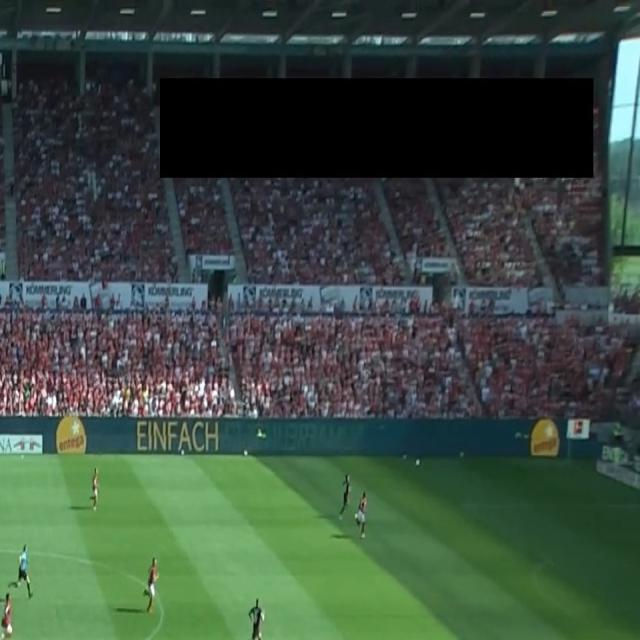ball: (416, 458, 420, 466)
